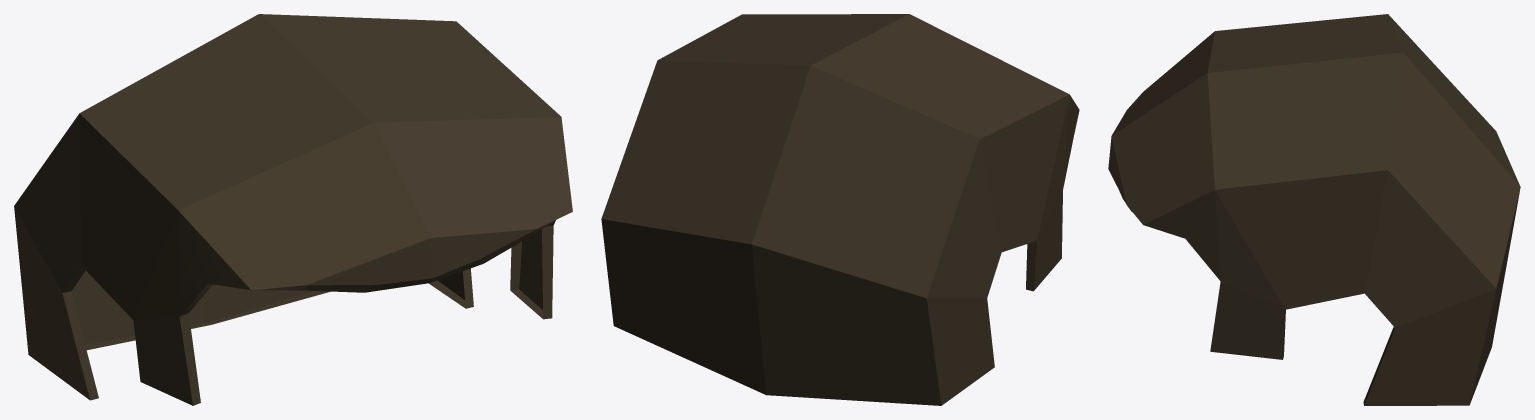
Rendered from SM_Chr_Attach_Hair_Male_04.fbx.
3 renders of one model, left to right at view 1: azimuth 30°, elevation 25°; view 2: azimuth 150°, elevation 25°; view 3: azimuth 270°, elevation 25°, orthographic. The views are drawn at different scales.
Parts seen in each view (by area): view 1: SM_Chr_Attach_Hair_Male_04; view 2: SM_Chr_Attach_Hair_Male_04; view 3: SM_Chr_Attach_Hair_Male_04.
Part boxes in pixels (x1=…): SM_Chr_Attach_Hair_Male_04: x1=14, y1=14, x2=572, y2=405; SM_Chr_Attach_Hair_Male_04: x1=601, y1=14, x2=1079, y2=405; SM_Chr_Attach_Hair_Male_04: x1=1108, y1=14, x2=1520, y2=405.
Bounding box in the file's own units: 23.86 × 19.66 × 24.93.
